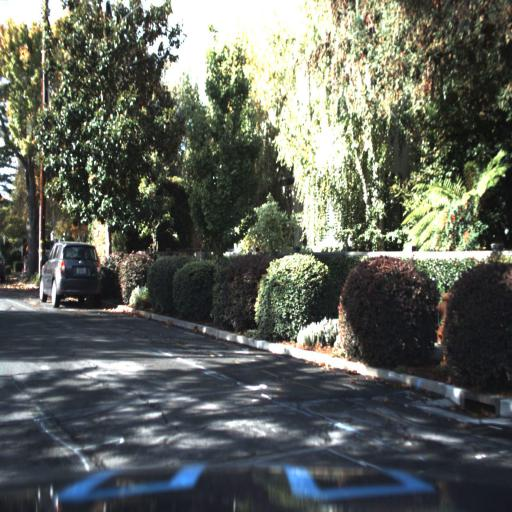car: (33, 224, 120, 321)
